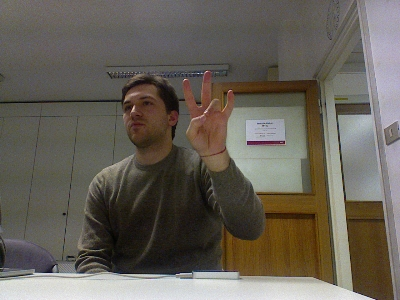观音: (180, 70, 234, 157)
